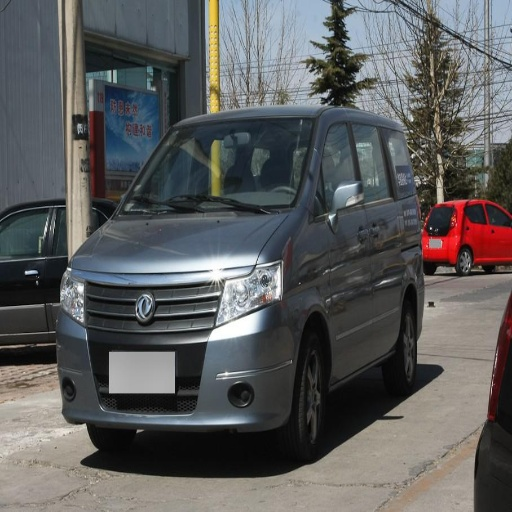front_bumper: (57, 269, 301, 430)
front_glass: (118, 120, 316, 214)
front_left_door: (310, 115, 377, 377)
